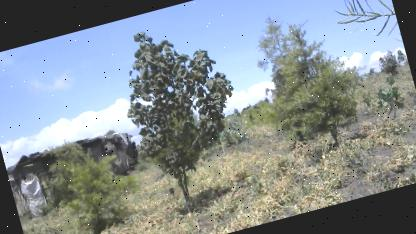tree: (109, 9, 259, 220), (235, 0, 378, 168)
